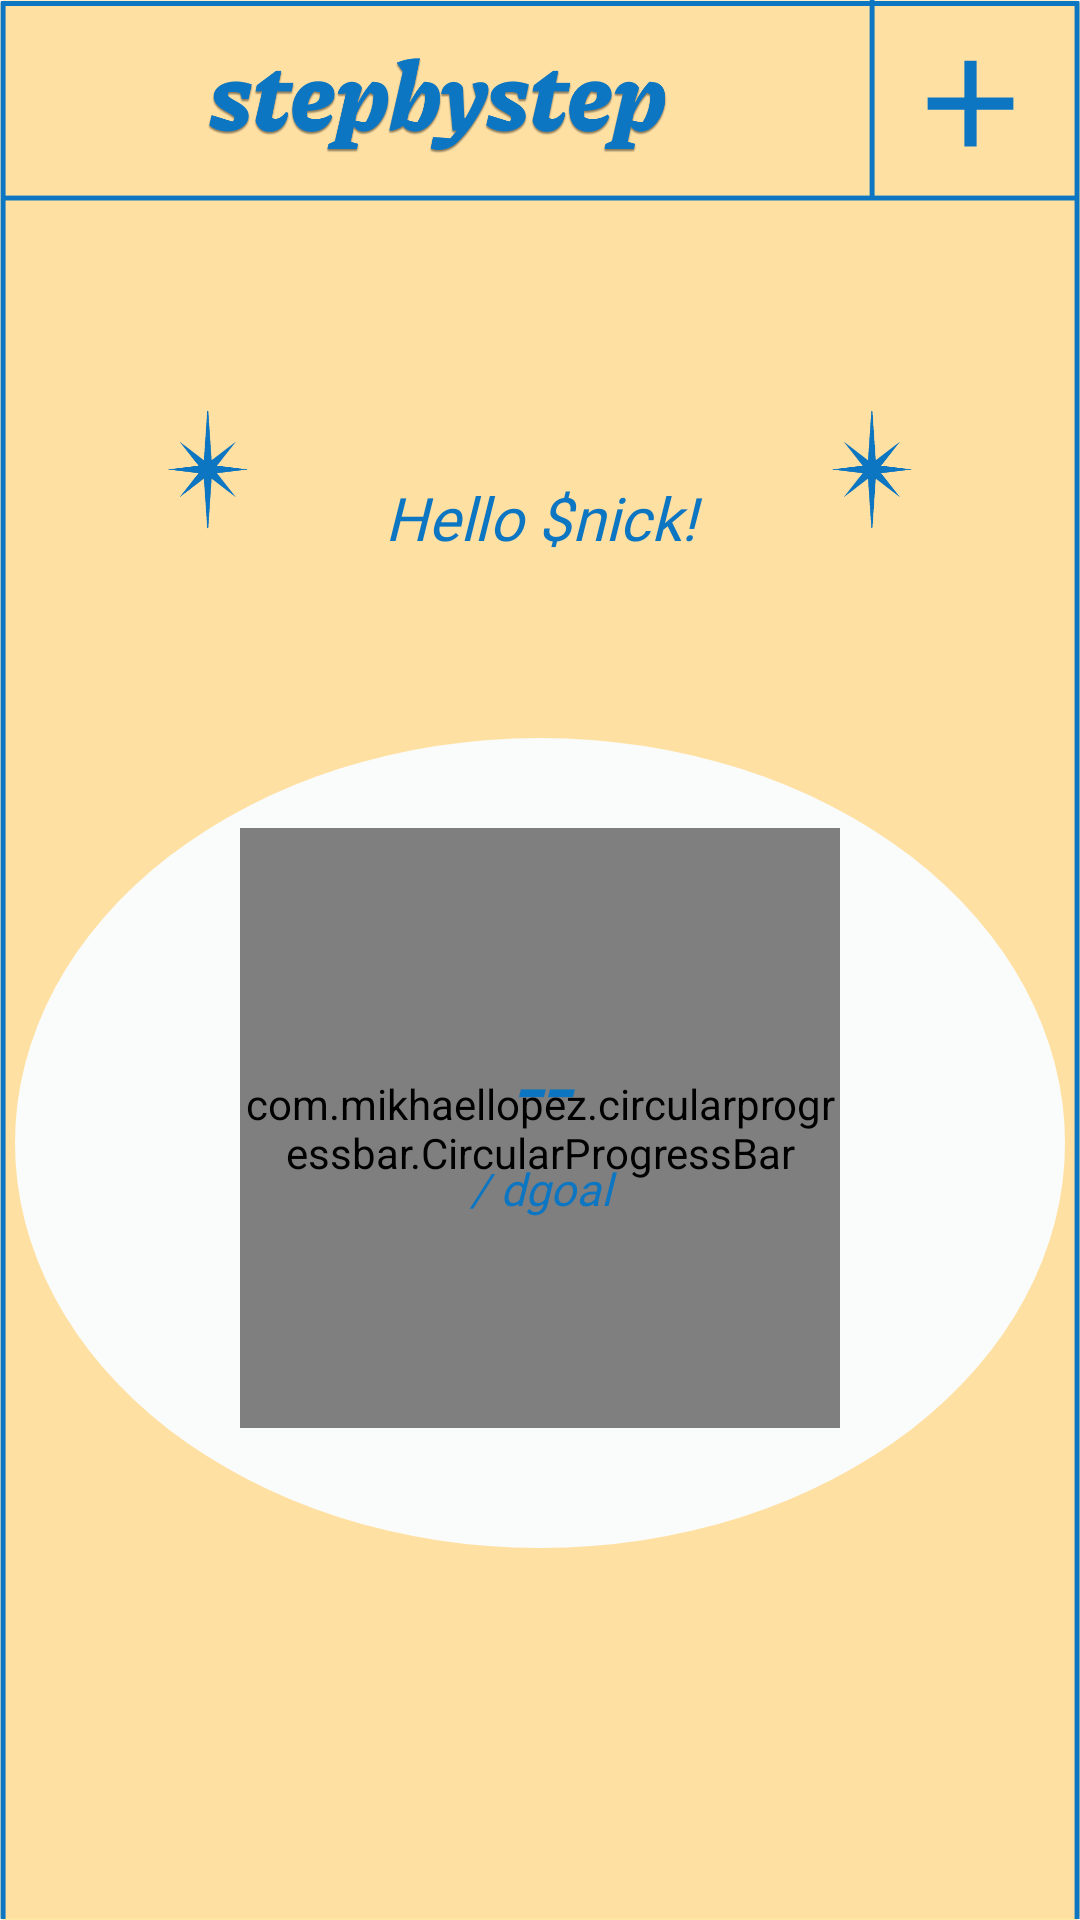

Icon click points for this 1080px×1920px phone screenshot, format point (x, y):
add: point (970, 103)
